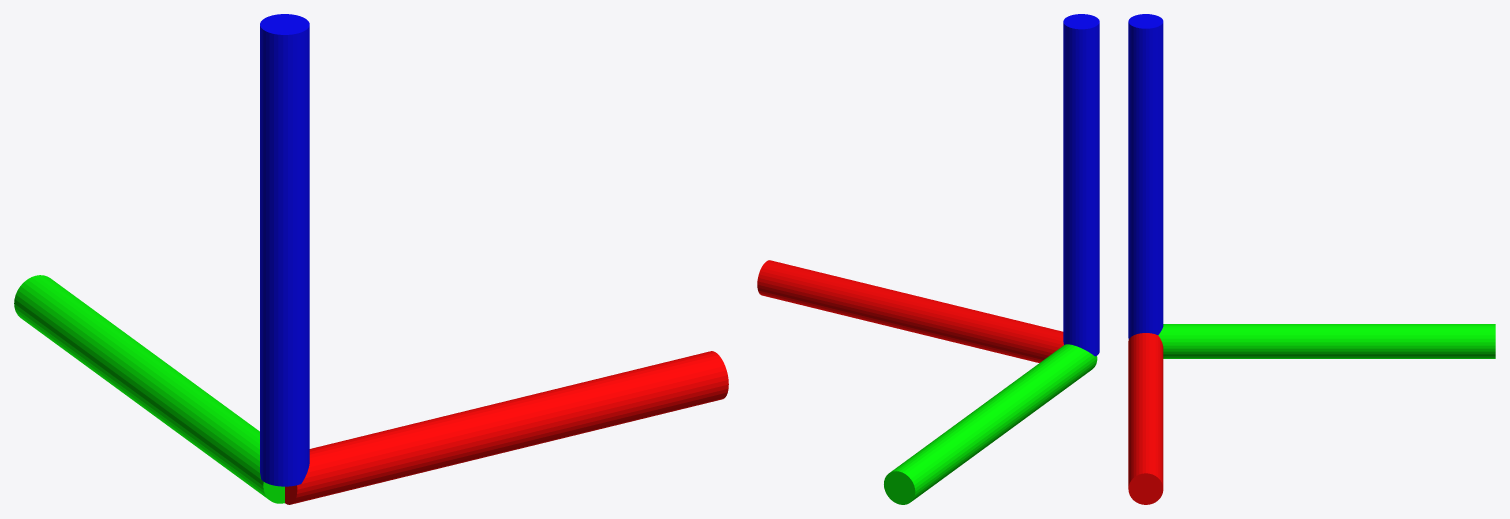
File: axis.dae
The picture shows the model from 3 angles, left to right: view 1: azimuth 30°, elevation 25°; view 2: azimuth 150°, elevation 25°; view 3: azimuth 270°, elevation 25°; orthographic projection. The views are drawn at different scales.
Parts seen in each view (by area): view 1: 圓柱體, 圓柱體.001, 圓柱體.002; view 2: 圓柱體, 圓柱體.001, 圓柱體.002; view 3: 圓柱體.002, 圓柱體, 圓柱體.001.
Part boxes in pixels (left/top/right/bottom): 圓柱體: left=260, top=14, right=309, bottom=486; 圓柱體.001: left=285, top=351, right=728, bottom=504; 圓柱體.002: left=14, top=275, right=284, bottom=503; 圓柱體: left=1063, top=14, right=1099, bottom=356; 圓柱體.001: left=757, top=260, right=1063, bottom=362; 圓柱體.002: left=884, top=344, right=1097, bottom=504; 圓柱體.002: left=1158, top=324, right=1495, bottom=358; 圓柱體: left=1128, top=14, right=1163, bottom=339; 圓柱體.001: left=1128, top=333, right=1163, bottom=504.
Bounding box in the file's own units: 0.525 × 0.525 × 0.53.
